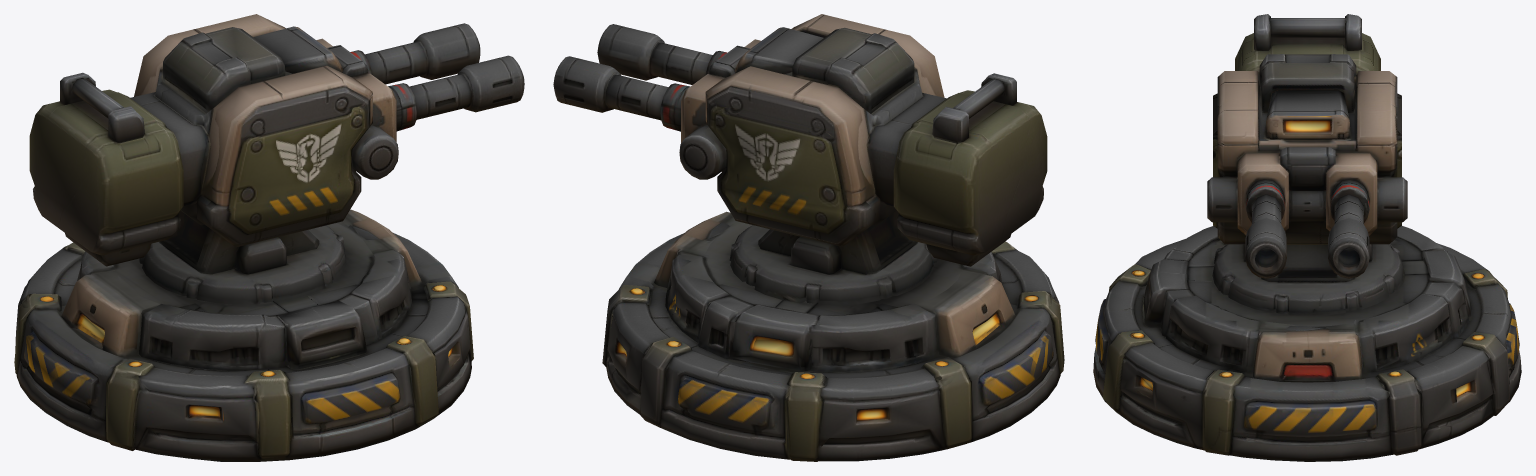
The model's file is sci-fi+turret+3d+model.glb.
3 views of the same model, side by side, from view 1: azimuth 30°, elevation 25°; view 2: azimuth 150°, elevation 25°; view 3: azimuth 270°, elevation 25° (orthographic). The views are drawn at different scales.
Visible parts, largest first — view 1: tripo_node_2ee5e293-4177-4752-b1e4-33502420093d; view 2: tripo_node_2ee5e293-4177-4752-b1e4-33502420093d; view 3: tripo_node_2ee5e293-4177-4752-b1e4-33502420093d.
Boxes of the visible parts, x1,y1,x2,y2 form: tripo_node_2ee5e293-4177-4752-b1e4-33502420093d: [14, 14, 524, 461]; tripo_node_2ee5e293-4177-4752-b1e4-33502420093d: [553, 14, 1064, 461]; tripo_node_2ee5e293-4177-4752-b1e4-33502420093d: [1093, 14, 1521, 461].
Bounding box in the file's own units: 0.998 × 0.6934 × 0.8809.
1 material, 1 textured.
